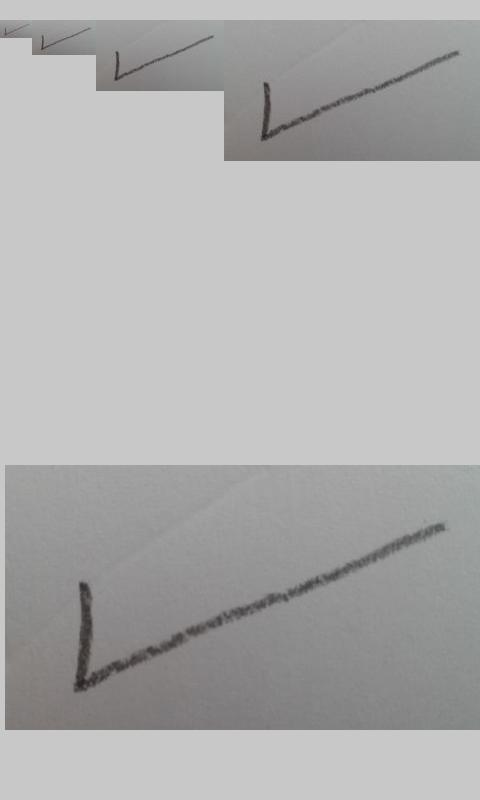check_box: (72, 522, 442, 692), (260, 51, 460, 141), (114, 35, 214, 81), (41, 28, 90, 50), (4, 24, 28, 35)
